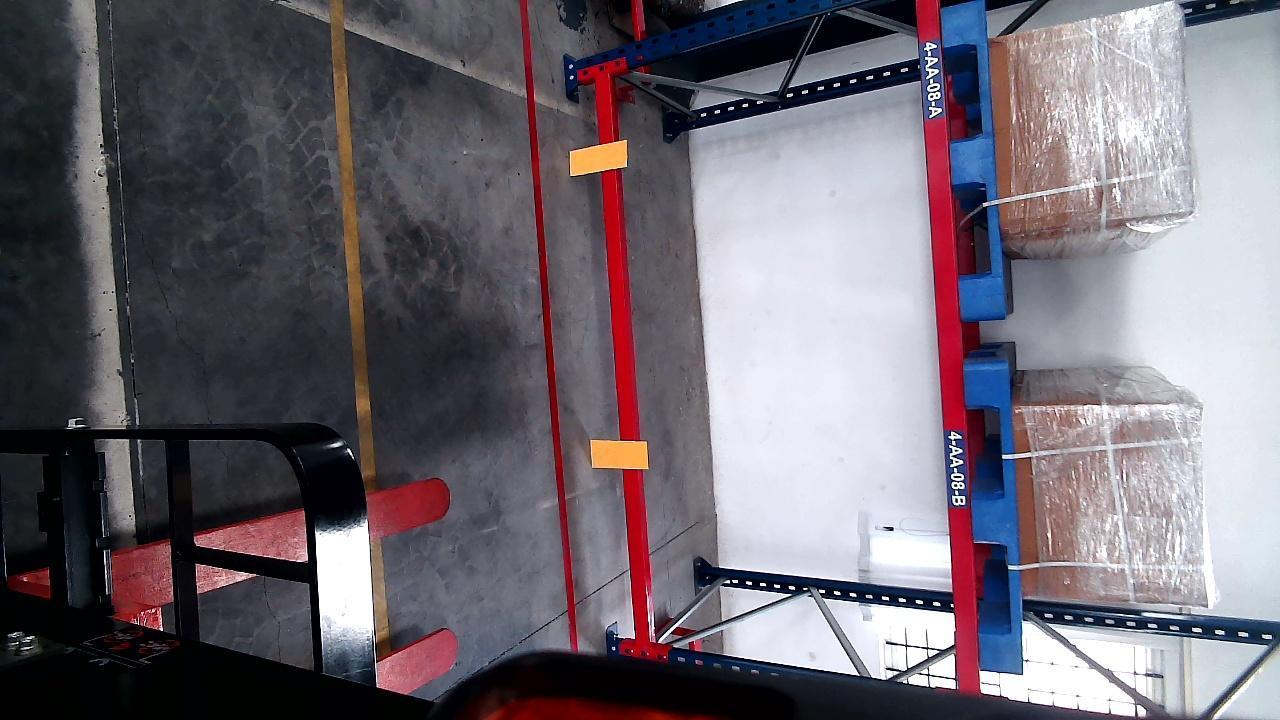h_rack: (917, 1, 986, 699), (594, 77, 648, 646)
orange_strip: (569, 140, 627, 174), (591, 438, 647, 468)
red_line: (522, 0, 582, 667)
small_pallet: (942, 0, 1003, 318), (966, 360, 1022, 668)
yellow_line: (323, 0, 379, 465)
